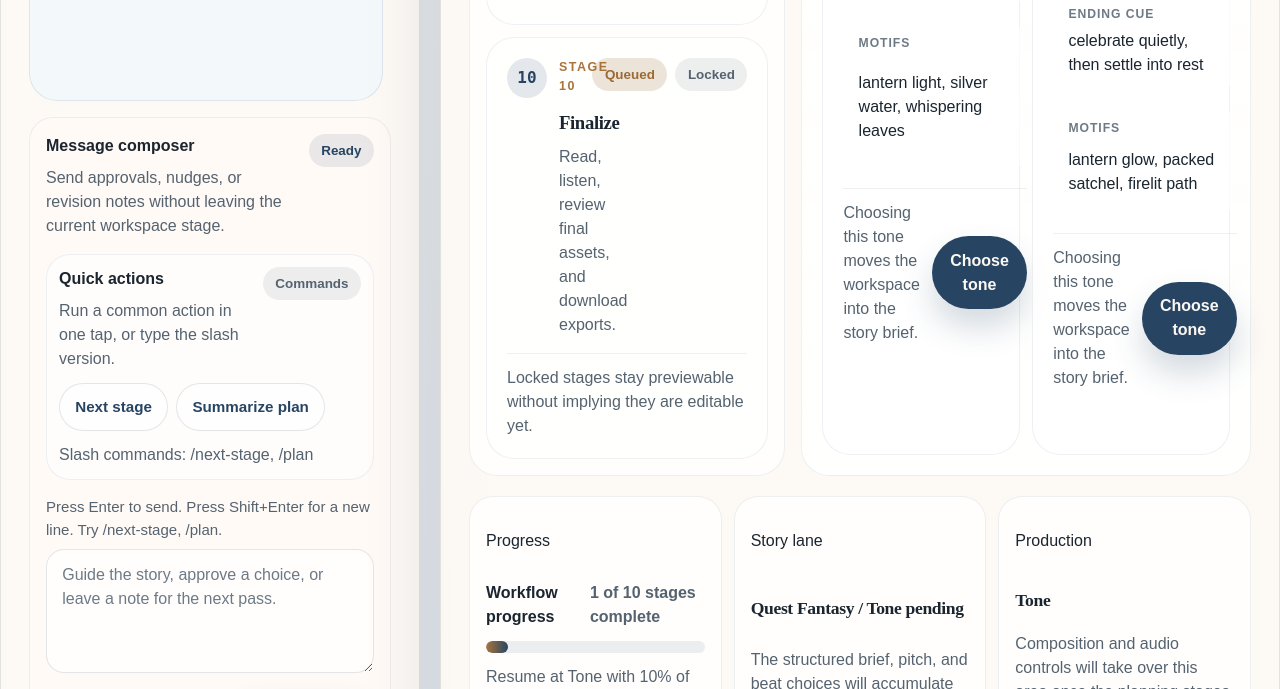
SessionWorkspacePage › renders tone cards from the filtered catalog and persists a selected tone
This screenshot has width=1280, height=689.
(page scrolled)
Step 1. Click the 1st button "Choose tone" → click(980, 273), box [932,236,1027,309]
(page scrolled)
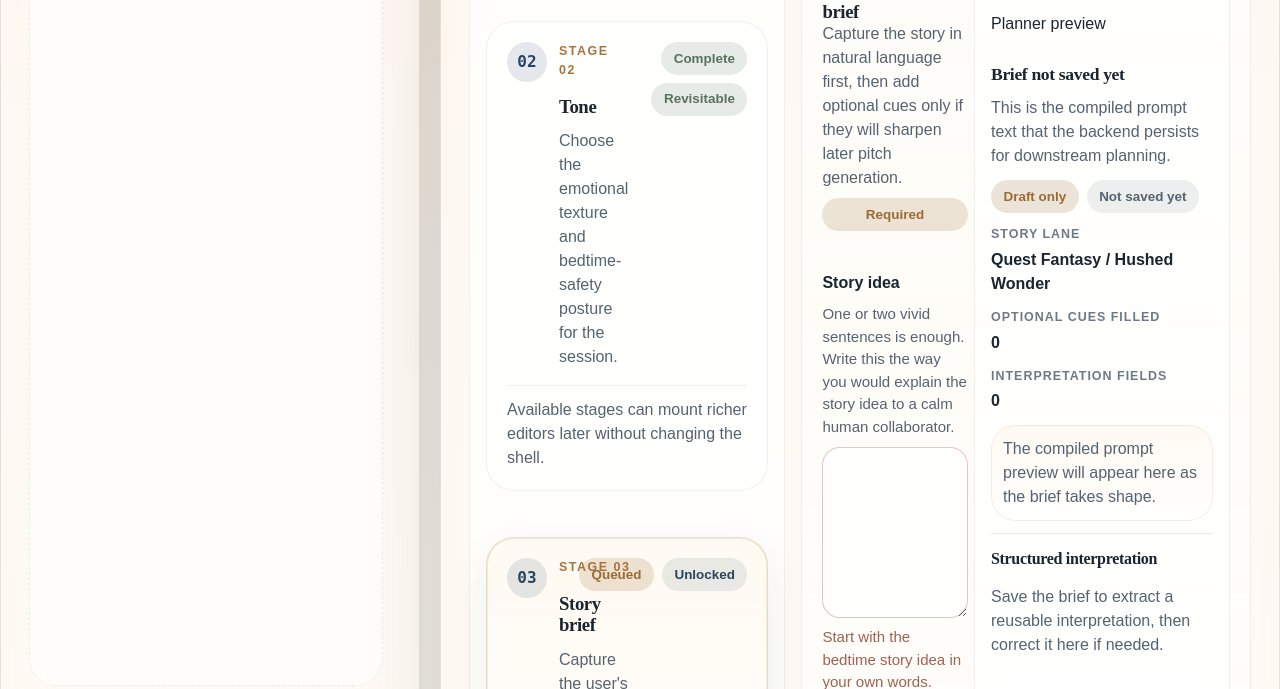
Check: the text "Quest Fantasy / Hushed Wonder" is shown, box [991,251,1173,292]
